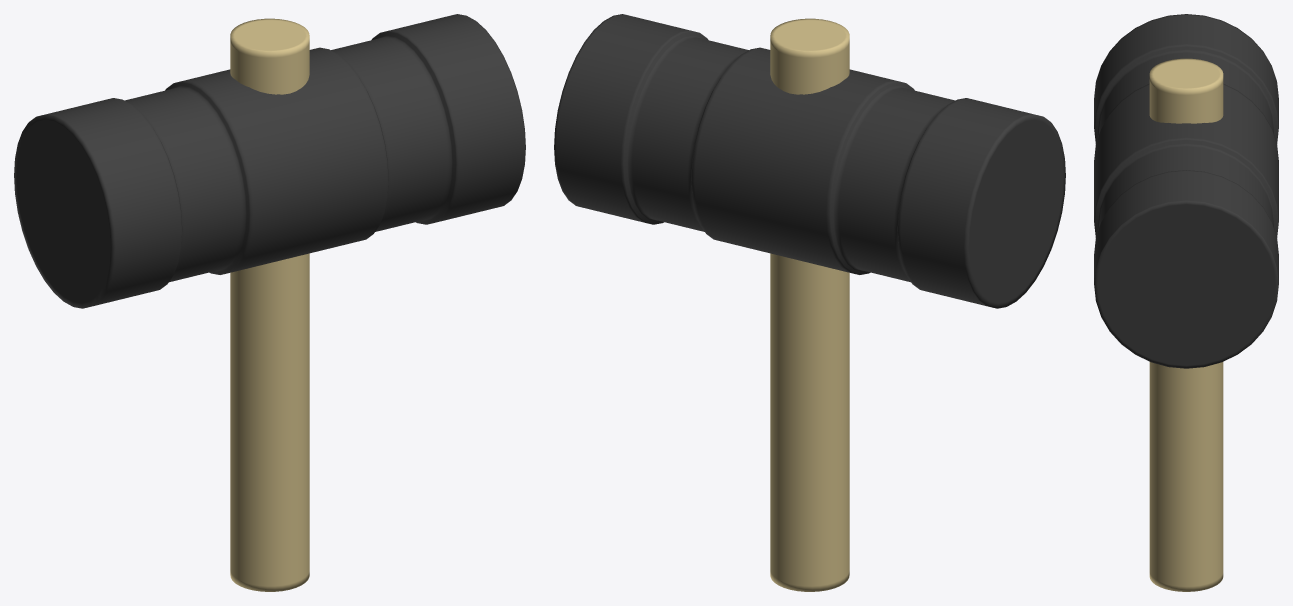
File: Molot.fbx
3 renders of one model, left to right at view 1: azimuth 30°, elevation 25°; view 2: azimuth 150°, elevation 25°; view 3: azimuth 270°, elevation 25°, orthographic. The views are drawn at different scales.
Parts seen in each view (by area): view 1: Molot; view 2: Molot; view 3: Molot.
Part boxes in pixels (x1,y1,x2,y2): Molot: [14, 14, 525, 591]; Molot: [554, 14, 1065, 591]; Molot: [1094, 14, 1278, 591].
Bounding box in the file's own units: 12 × 15 × 5.
